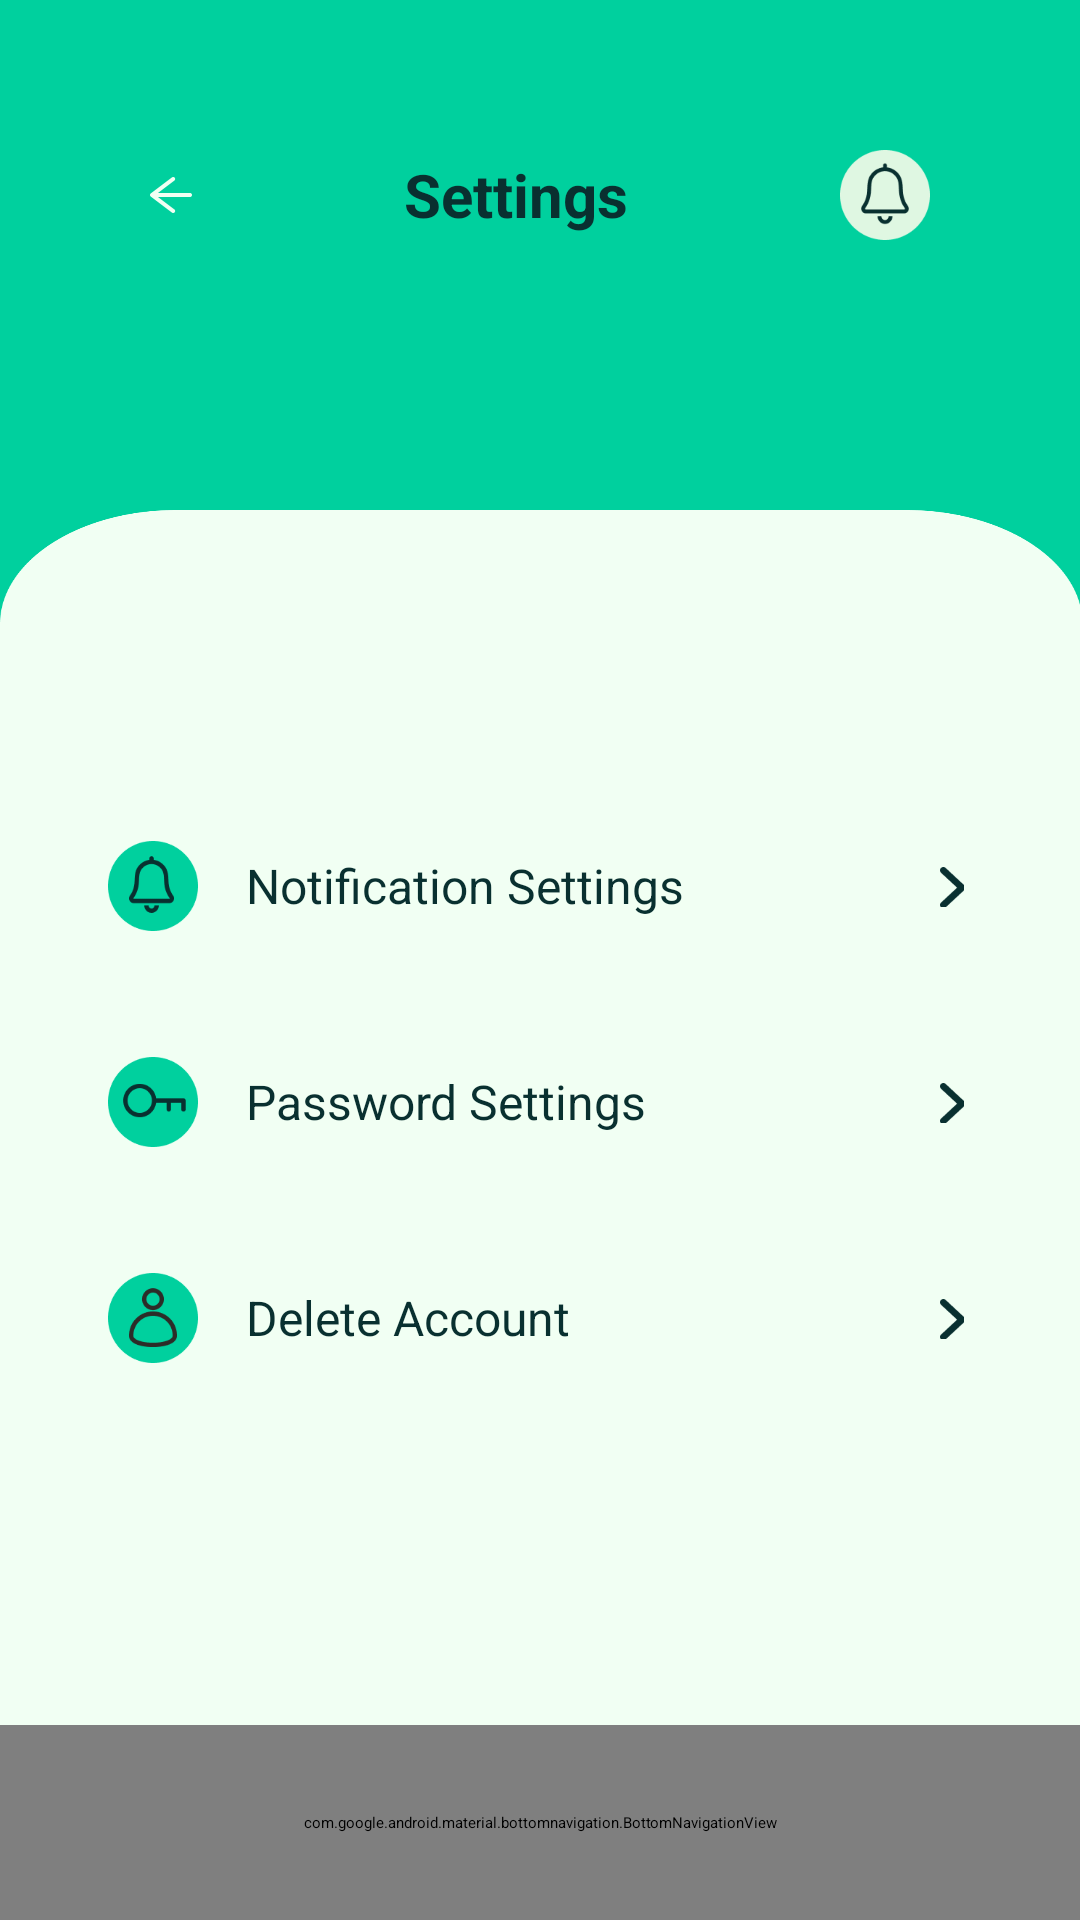

Where to tap for icons on this 1080 × 1920 app screen, as [x,y]:
Arrow Icon: [952,887], [952,1103], [952,1319]
Back Icon: [171,195]
notification: [885,195]
